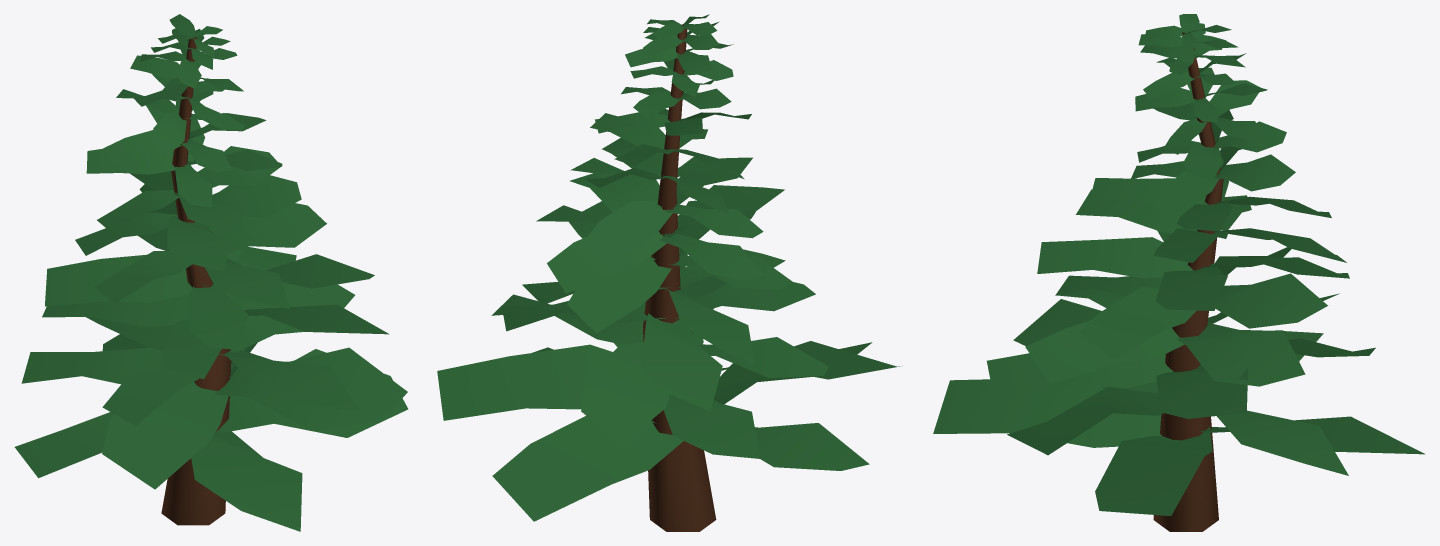
Rendered from Tree.glb.
The picture shows the model from 3 angles, left to right: view 1: azimuth 30°, elevation 25°; view 2: azimuth 150°, elevation 25°; view 3: azimuth 270°, elevation 25°; orthographic projection. The views are drawn at different scales.
Parts seen in each view (by area): view 1: Plane.007, Plane.003, Plane.006, Cylinder, Plane.011, Plane.017, Plane.004, Plane, Plane.008, Plane.016, Plane.022, Plane.013 (+28 smaller); view 2: Plane.001, Cylinder, Plane.005, Plane.009, Plane.013, Plane.004, Plane, Plane.021, Plane.029, Plane.025, Plane.017, Plane.008 (+28 smaller); view 3: Plane.003, Plane.002, Cylinder, Plane.014, Plane.023, Plane.011, Plane.015, Plane.005, Plane.019, Plane.018, Plane.006, Plane.010 (+23 smaller).
Boxes of the visible parts, <box> form: Plane.007: <box>102,382,228,489</box>; Plane.003: <box>191,430,302,531</box>; Plane.006: <box>215,347,407,430</box>; Cylinder: <box>161,37,231,525</box>; Plane.011: <box>218,350,359,411</box>; Plane.017: <box>45,254,192,306</box>; Plane.004: <box>21,347,161,384</box>; Plane: <box>14,412,114,478</box>; Plane.008: <box>102,352,198,425</box>; Plane.016: <box>188,284,247,350</box>; Plane.022: <box>213,203,326,253</box>; Plane.013: <box>42,294,189,326</box>; Plane.001: <box>492,415,683,521</box>; Cylinder: <box>643,24,716,531</box>; Plane.005: <box>437,344,612,420</box>; Plane.009: <box>581,342,669,444</box>; Plane.013: <box>641,313,722,411</box>; Plane.004: <box>663,394,760,458</box>; Plane: <box>754,423,869,470</box>; Plane.021: <box>567,256,671,333</box>; Plane.029: <box>584,200,672,265</box>; Plane.025: <box>547,231,666,293</box>; Plane.017: <box>660,286,754,364</box>; Plane.008: <box>699,337,828,378</box>; Plane.003: <box>933,379,1161,447</box>; Plane.002: <box>1095,427,1212,515</box>; Cylinder: <box>1153,32,1223,531</box>; Plane.014: <box>1176,323,1305,386</box>; Plane.023: <box>1037,237,1192,278</box>; Plane.011: <box>986,353,1173,399</box>; Plane.015: <box>1025,320,1184,384</box>; Plane.005: <box>1217,410,1348,475</box>; Plane.019: <box>1079,287,1196,359</box>; Plane.018: <box>1215,273,1327,328</box>; Plane.006: <box>1007,387,1163,455</box>; Plane.010: <box>1156,365,1248,418</box>.
Size of the model in its own units: 14.16 by 18.26 by 16.5.
